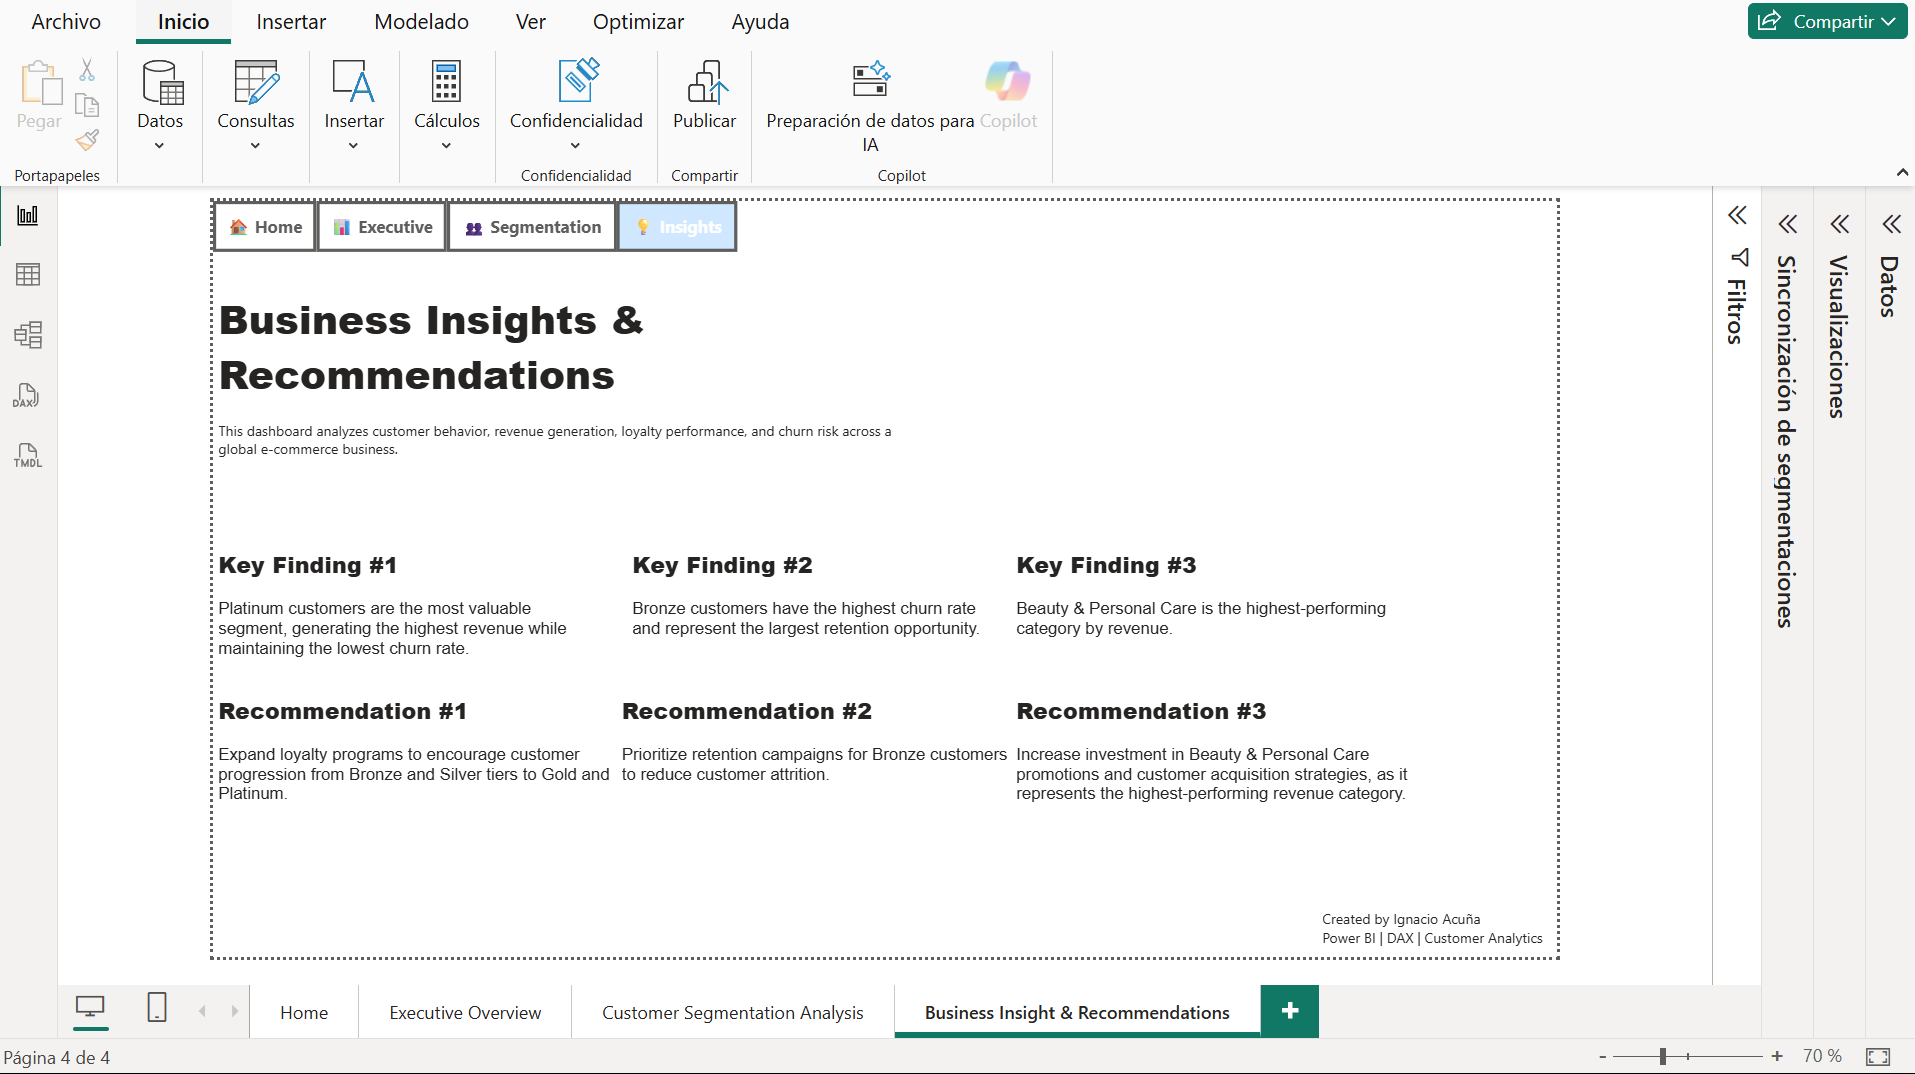

The page's visual inventory and layout, read from the dashboard file:
{"tool":"powerbi","page":{"name":"Business Insight & Recommendations","canvas":[1280,720],"ordinal":3},"visuals":[{"type":"textbox","box":[0,464.9,384.6,160.5],"z":0},{"type":"textbox","box":[0,325.6,363.4,139.3],"z":1000},{"type":"textbox","box":[393.7,325.6,366.4,139.3],"z":2000},{"type":"textbox","box":[760.1,325.6,383.1,139.3],"z":3000},{"type":"textbox","box":[384.6,464.9,384.6,160.5],"z":4000},{"type":"textbox","box":[760.1,464.9,410.3,160.5],"z":5000},{"type":"textbox","box":[0,80.3,673.8,192.3],"z":6000},{"type":"textbox","box":[1050.9,669.3,228.6,50],"z":7000},{"type":"actionButton","title":"Home","box":[0,0,98.4,48.5],"z":8000},{"type":"actionButton","title":"Home","box":[98.4,0,124.2,48.5],"z":9000},{"type":"actionButton","title":"Home","box":[222.6,0,162,48.5],"z":10000},{"type":"actionButton","title":"Home","box":[384.6,0,115.1,48.5],"z":11000}]}

Visuals, with their boxes on the page's 1280x720 design canvas (x1, y1, x2, y2). These are canvas units, not pixel positions in the 1915x1074 screenshot, which may show the page scaled, cropped or inside an application window:
textbox: bbox(0, 465, 385, 625)
textbox: bbox(0, 326, 363, 465)
textbox: bbox(394, 326, 760, 465)
textbox: bbox(760, 326, 1143, 465)
textbox: bbox(385, 465, 769, 625)
textbox: bbox(760, 465, 1170, 625)
textbox: bbox(0, 80, 674, 273)
textbox: bbox(1051, 669, 1280, 719)
"Home" actionButton: bbox(0, 0, 98, 48)
"Home" actionButton: bbox(98, 0, 223, 48)
"Home" actionButton: bbox(223, 0, 385, 48)
"Home" actionButton: bbox(385, 0, 500, 48)
